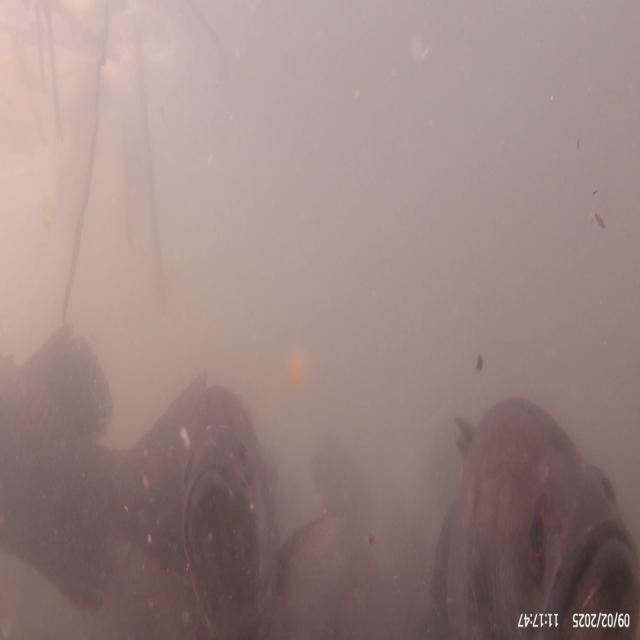ikan: (1, 320, 279, 636), (430, 393, 638, 638)
